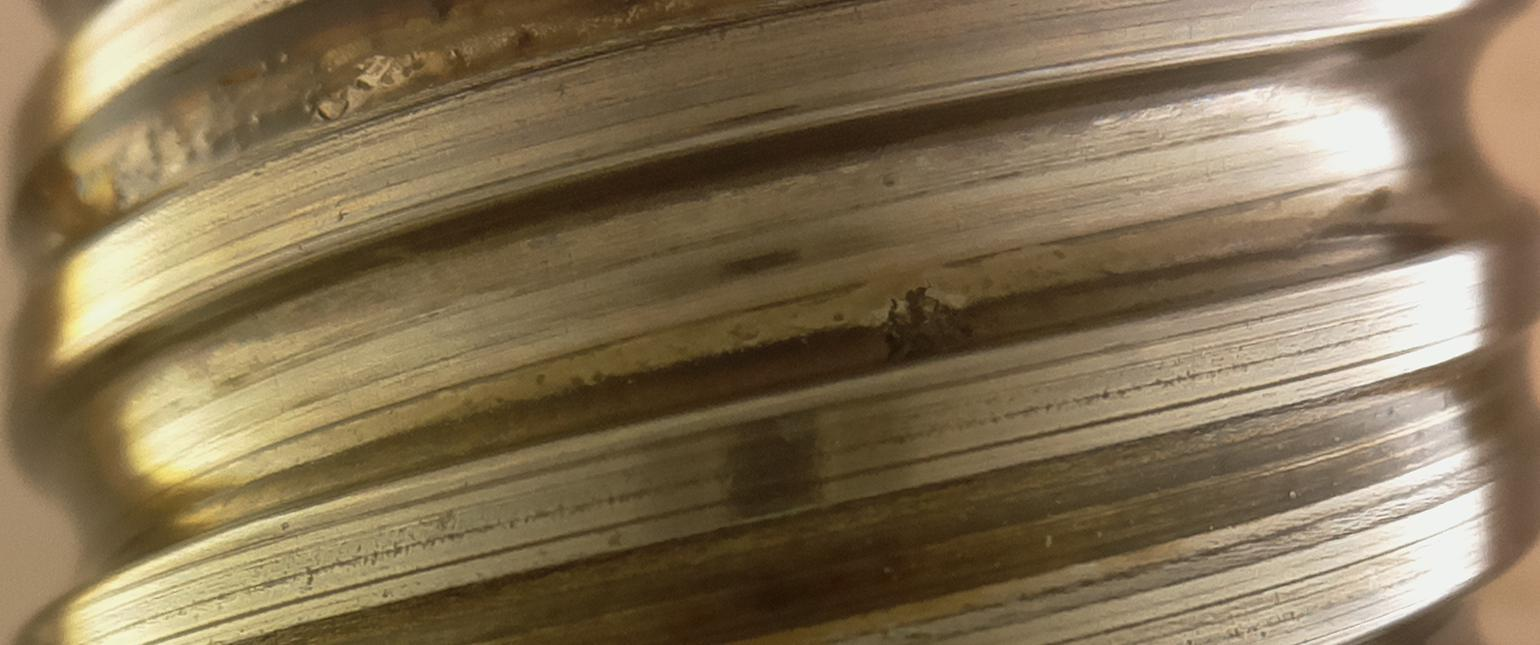pitting: (880, 286, 977, 367)
